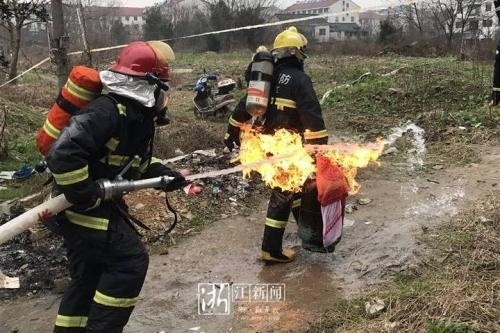fire: (233, 123, 314, 191), (317, 133, 388, 193)
